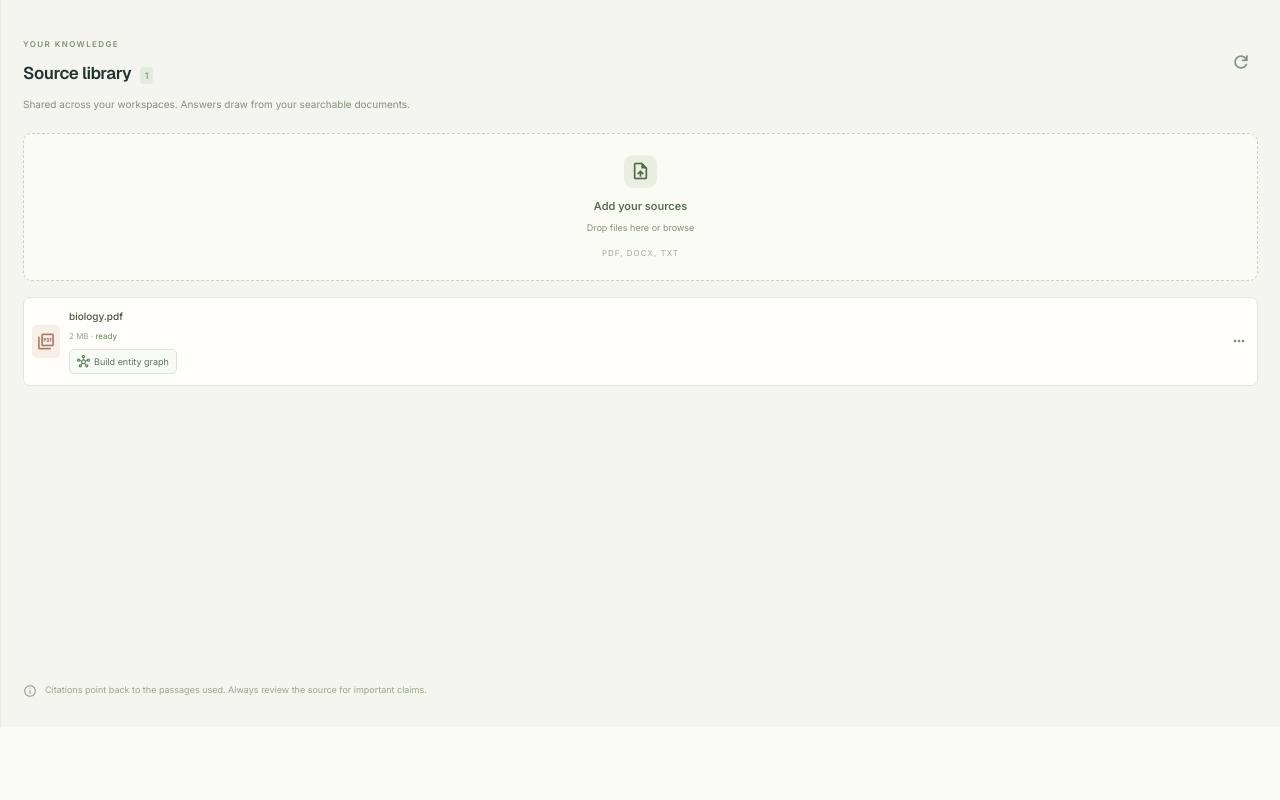
Scenario: SourceLibrary knowledge graph action › renders the API-reported unavailable status and relation count
This screenshot has width=1280, height=800.
Click the button "Build entity graph" at coordinates (123, 361), box top-left (69, 348), bottom-right (177, 374)
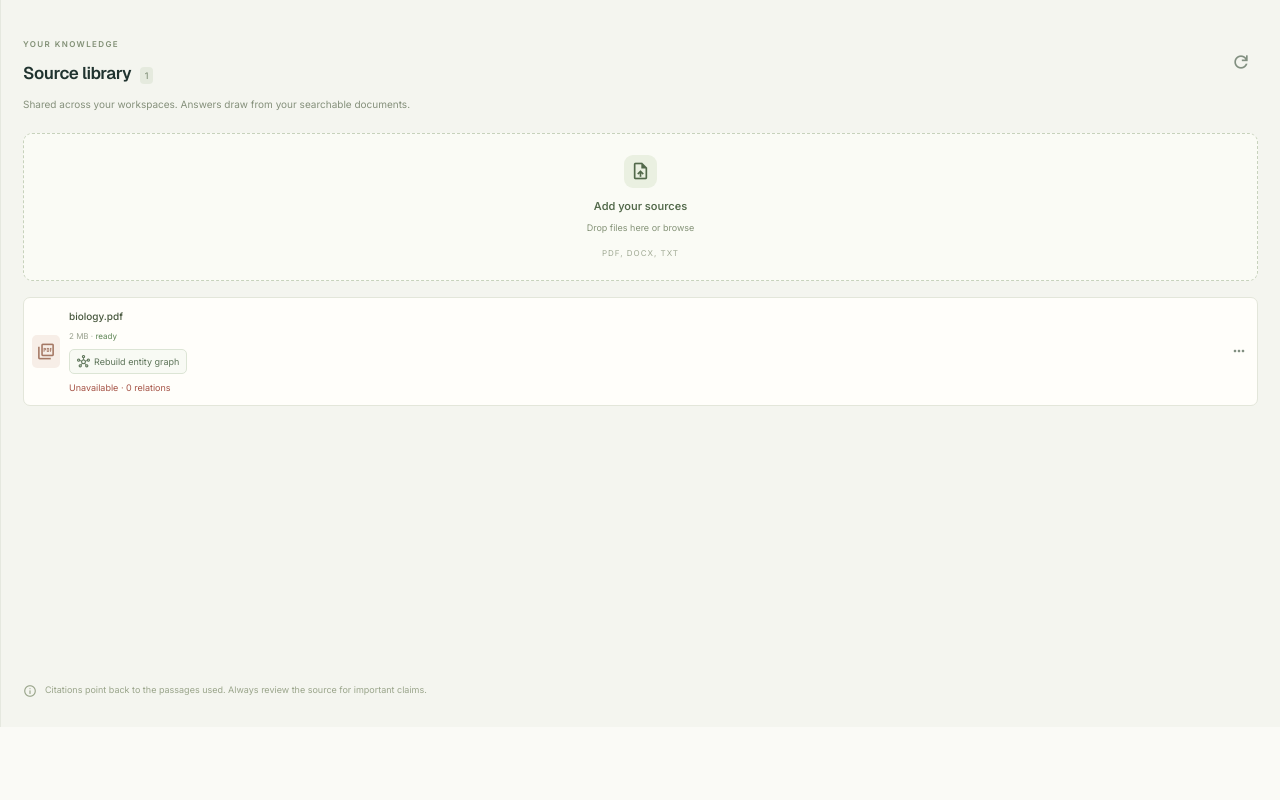
Expected: the message reads "Unavailable · 0 relations", top-left (69, 382), bottom-right (170, 393)
